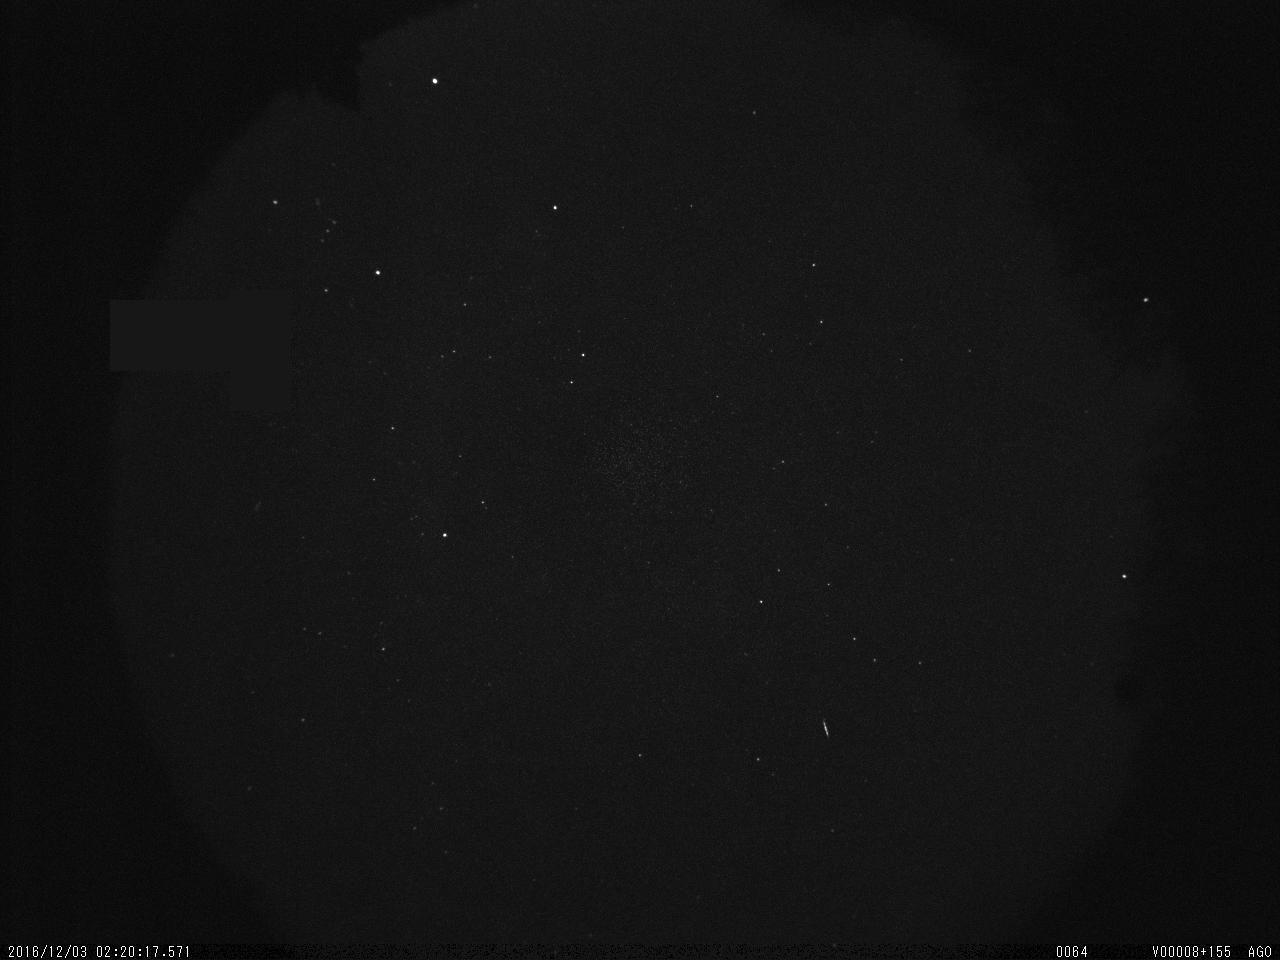meteor: (817, 713, 836, 749)
